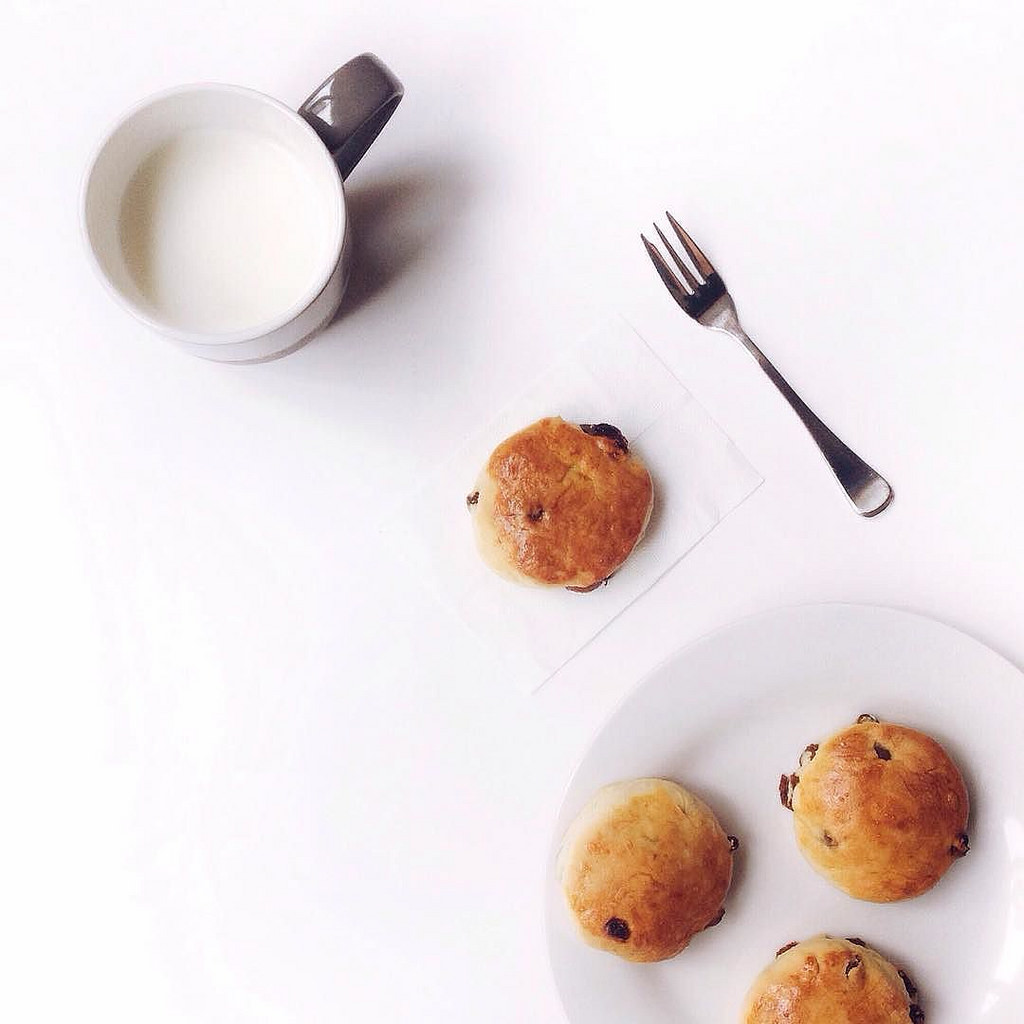glass of milk: (68, 7, 404, 391)
slice of bread: (765, 701, 999, 945)
